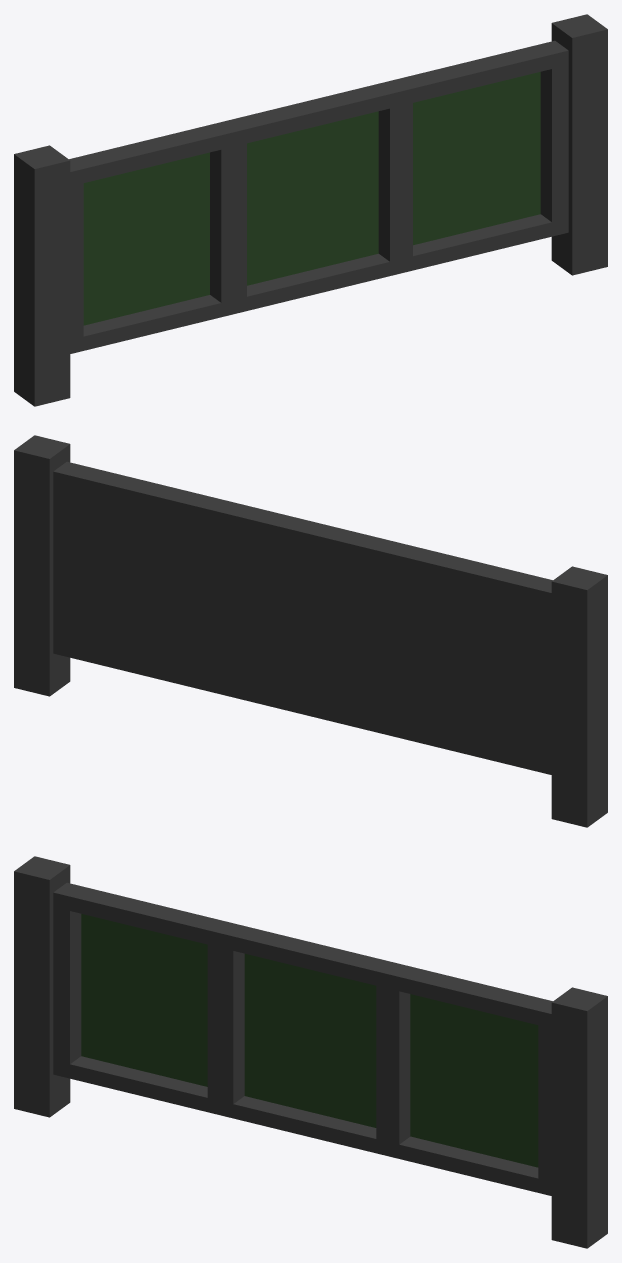
The model's file is fbx_school_outdoor_board.fbx.
The picture shows the model from 3 angles, top to bottom: view 1: azimuth 30°, elevation 25°; view 2: azimuth 150°, elevation 25°; view 3: azimuth 330°, elevation 25°; orthographic projection.
Parts seen in each view (by area): view 1: fbx_school_outdoor_board; view 2: fbx_school_outdoor_board; view 3: fbx_school_outdoor_board.
Part boxes in pixels (x1,y1,x2,y2): fbx_school_outdoor_board: (14, 14, 607, 406); fbx_school_outdoor_board: (14, 435, 607, 827); fbx_school_outdoor_board: (14, 856, 607, 1248).
Bounding box in the file's own units: 2.4 × 0.9493 × 0.1496.
Materials: 1 (1 with a texture image).
